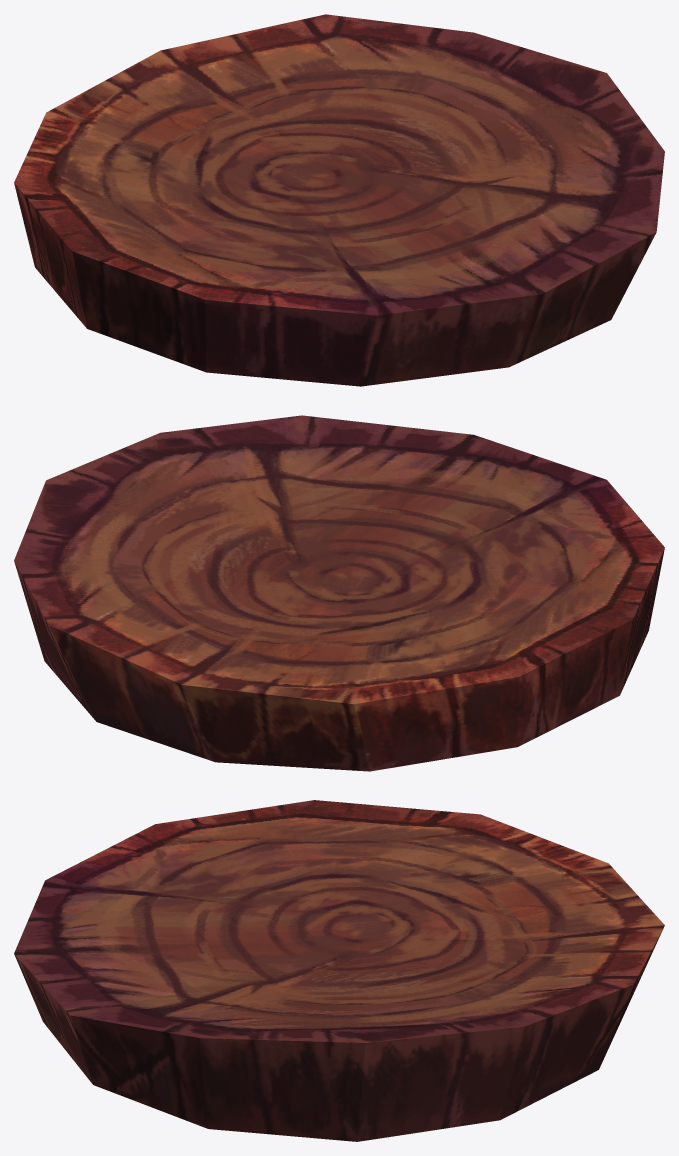
File: 10_wooden_plate_02.obj
The picture shows the model from 3 angles, top to bottom: view 1: azimuth 30°, elevation 25°; view 2: azimuth 150°, elevation 25°; view 3: azimuth 270°, elevation 25°; orthographic projection. The views are drawn at different scales.
Parts seen in each view (by area): view 1: 10_wooden_plate_02; view 2: 10_wooden_plate_02; view 3: 10_wooden_plate_02.
Boxes of the visible parts, x1,y1,x2,y2 form: 10_wooden_plate_02: (14, 14, 664, 386); 10_wooden_plate_02: (14, 415, 664, 771); 10_wooden_plate_02: (14, 800, 664, 1141).
Bounding box in the file's own units: 1.91 × 0.3709 × 1.99.
1 material, 1 textured.
